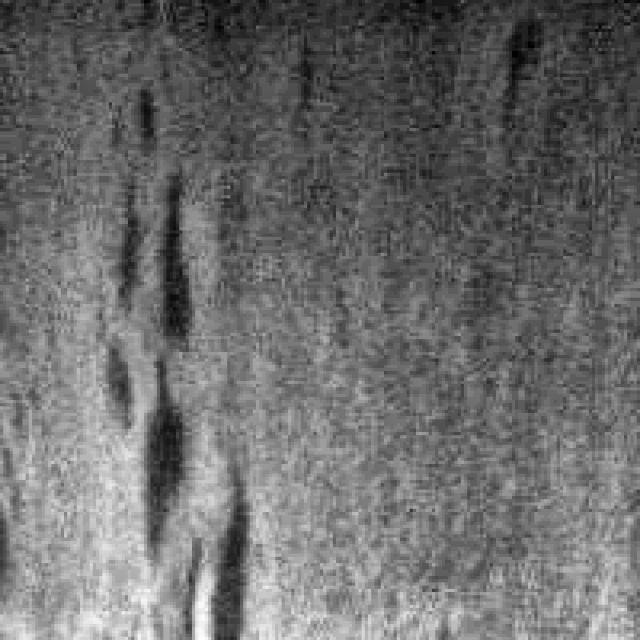Patches: (92, 70, 246, 630)
